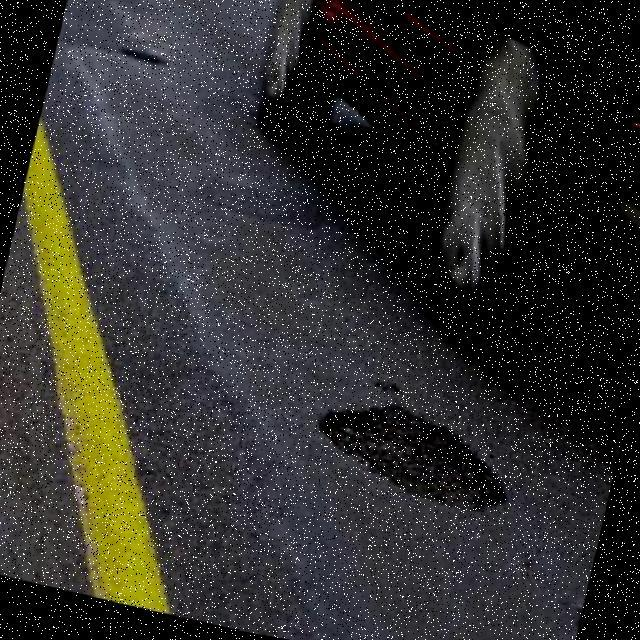Pothole: (318, 405, 504, 512)
